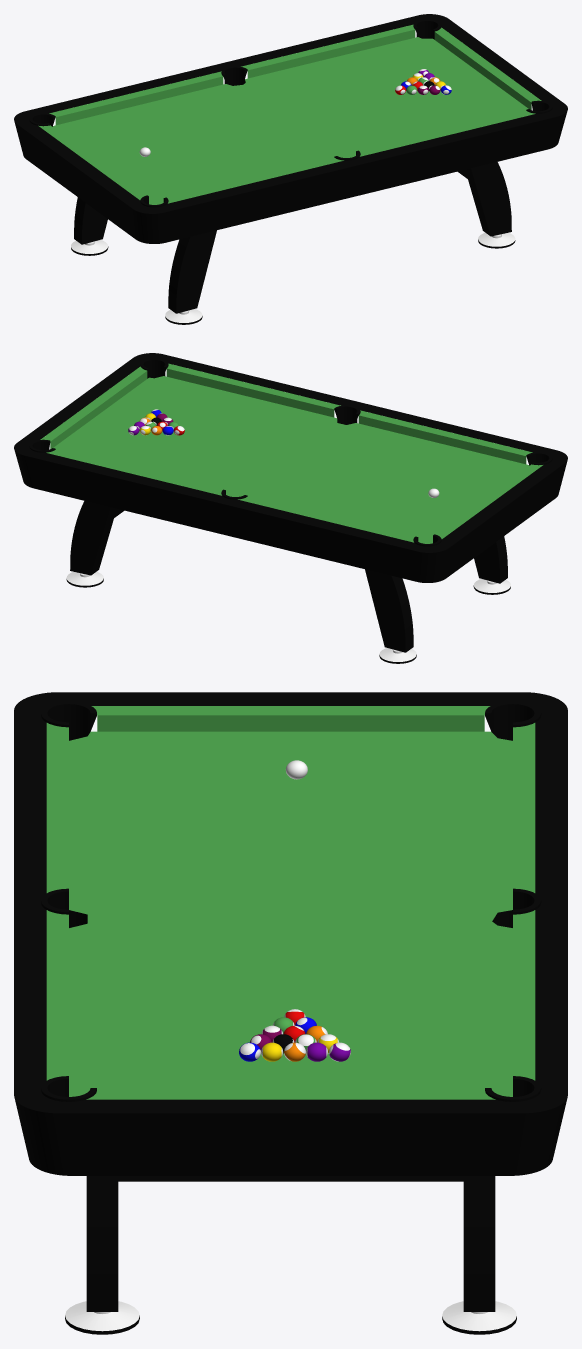
Rendered from pool-table-9ft-low.glb.
The picture shows the model from 3 angles, top to bottom: view 1: azimuth 30°, elevation 25°; view 2: azimuth 150°, elevation 25°; view 3: azimuth 270°, elevation 25°; orthographic projection. The views are drawn at different scales.
Parts seen in each view (by area): view 1: Mesh45 Group1 Model, Mesh3 Group3 Group1 Model, Mesh7 Group5 Group1 Model, Mesh1 Group2 Group1 Model, Mesh18 patte2 Group1 Model, Mesh9 patte1 Group1 Model, Mesh27 patte3 Group1 Model; view 2: Mesh45 Group1 Model, Mesh1 Group2 Group1 Model, Mesh5 Group4 Group1 Model, Mesh3 Group3 Group1 Model, Mesh36 patte4 Group1 Model, Mesh27 patte3 Group1 Model, Mesh9 patte1 Group1 Model; view 3: Mesh45 Group1 Model, Mesh5 Group4 Group1 Model, Mesh7 Group5 Group1 Model, Mesh46 Group1 Model, Mesh18 patte2 Group1 Model, Mesh36 patte4 Group1 Model.
Part boxes in pixels (x1,y1,x2,y2): Mesh45 Group1 Model: (14, 14, 567, 243); Mesh3 Group3 Group1 Model: (168, 230, 216, 313); Mesh7 Group5 Group1 Model: (465, 162, 511, 236); Mesh1 Group2 Group1 Model: (74, 197, 107, 244); Mesh18 patte2 Group1 Model: (478, 232, 515, 248); Mesh9 patte1 Group1 Model: (165, 309, 202, 324); Mesh27 patte3 Group1 Model: (71, 240, 108, 255); Mesh45 Group1 Model: (14, 353, 567, 582); Mesh1 Group2 Group1 Model: (365, 569, 413, 652); Mesh5 Group4 Group1 Model: (70, 501, 116, 575); Mesh3 Group3 Group1 Model: (474, 536, 507, 583); Mesh36 patte4 Group1 Model: (66, 571, 103, 587); Mesh27 patte3 Group1 Model: (379, 648, 416, 663); Mesh9 patte1 Group1 Model: (473, 579, 510, 594); Mesh45 Group1 Model: (14, 692, 567, 1175); Mesh5 Group4 Group1 Model: (463, 1176, 495, 1311); Mesh7 Group5 Group1 Model: (86, 1176, 118, 1311); Mesh46 Group1 Model: (118, 1176, 463, 1181); Mesh18 patte2 Group1 Model: (65, 1301, 139, 1334); Mesh36 patte4 Group1 Model: (442, 1301, 516, 1334).
Bounding box in the file's own units: 2.74 × 0.8 × 1.52.
